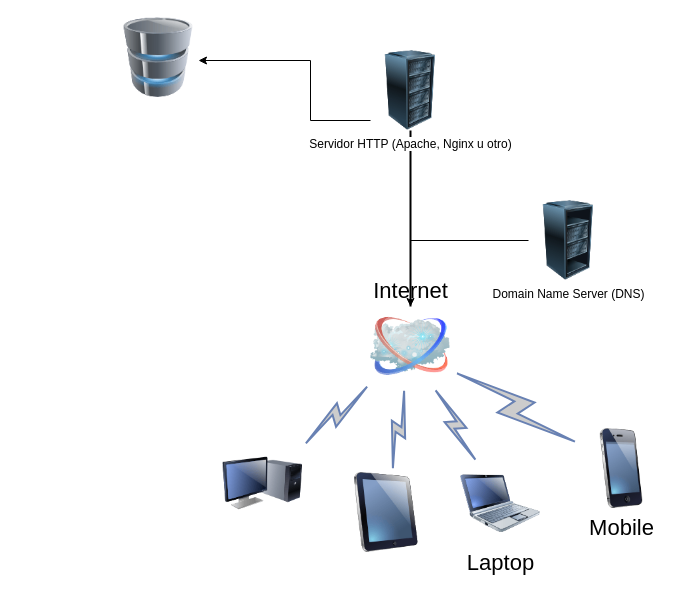
The diagram is 678 pixels wide and 602 high, and some of its shapes have lost their labels. Each missing label, with the centre of its shape:
"PC" belongs at pixel 262 483.
"Servidor de Base de Datos (MySQL, MariaDB u otro)" belongs at pixel 158 57.
"Tablet" belongs at pixel 386 512.
